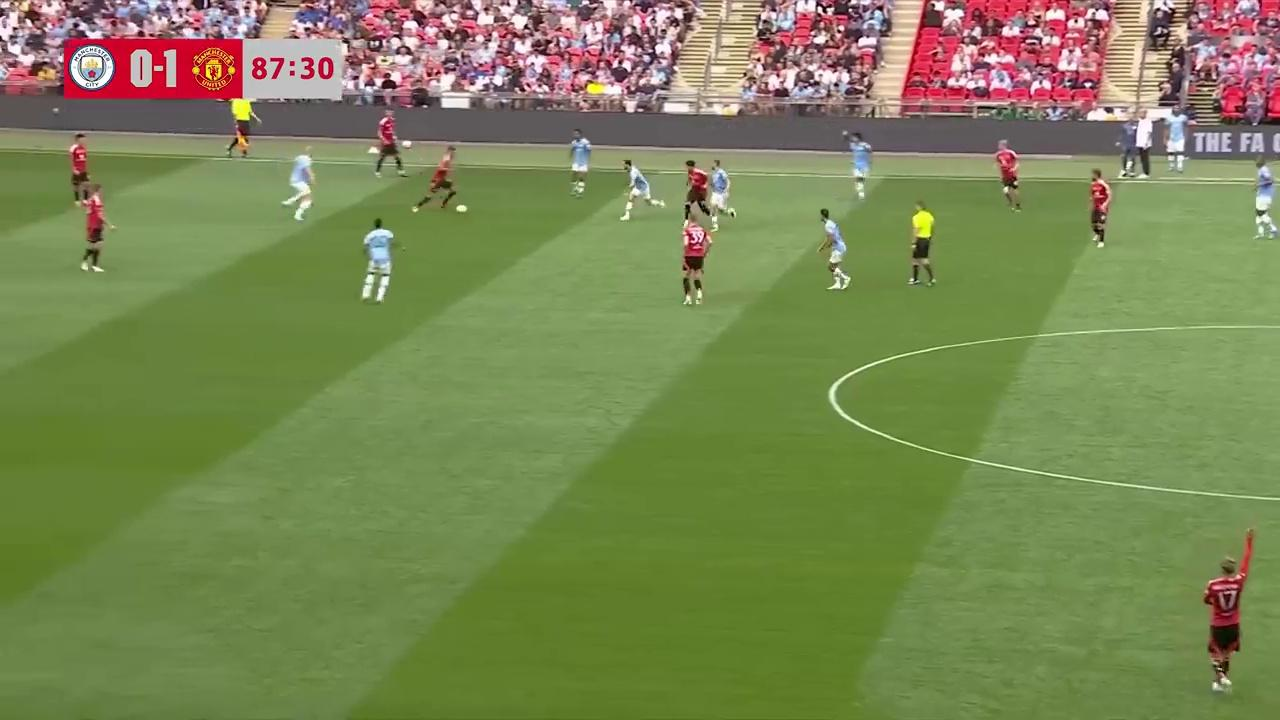ball: (453, 201, 469, 215)
player: (1202, 524, 1252, 694), (80, 184, 116, 272), (360, 216, 394, 302), (426, 146, 468, 213), (681, 213, 711, 306), (816, 209, 850, 291), (620, 159, 662, 220), (282, 148, 316, 220), (370, 116, 406, 177), (1253, 158, 1279, 239), (994, 142, 1021, 211), (1088, 170, 1111, 247), (707, 159, 736, 220), (683, 158, 711, 221), (68, 133, 91, 204), (568, 131, 592, 195), (849, 135, 871, 200)
referee: (907, 200, 936, 287), (226, 95, 254, 159)
